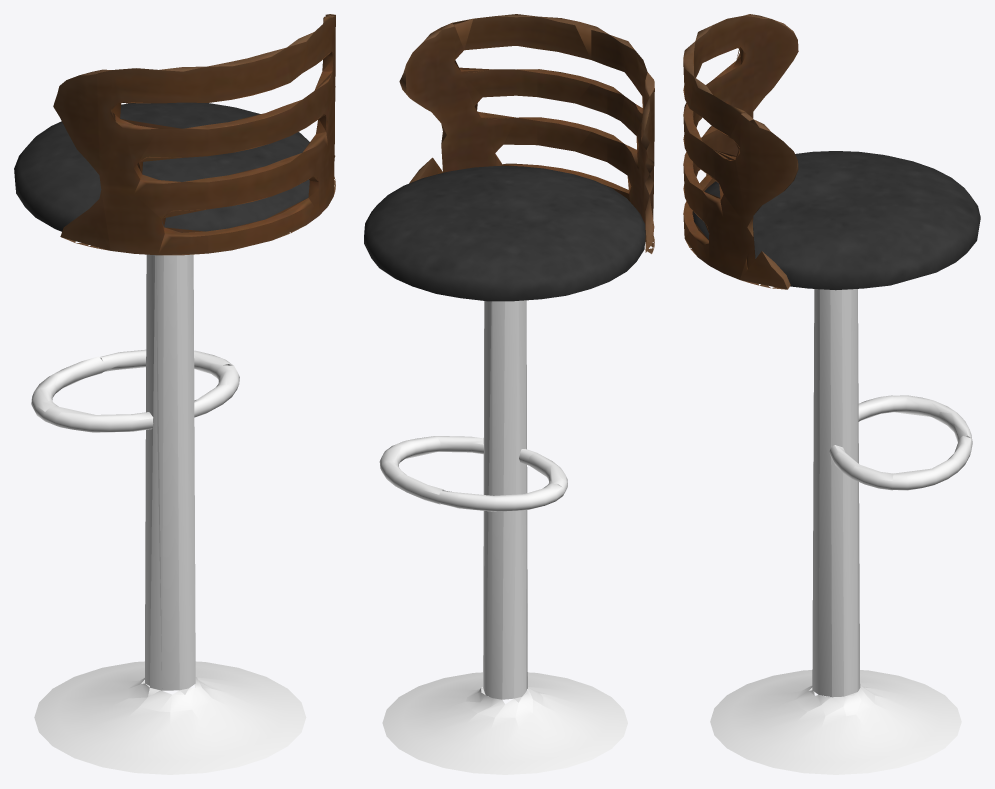
Rendered from ARC0810051.fbx.
3 views of the same model, side by side, from view 1: azimuth 30°, elevation 25°; view 2: azimuth 150°, elevation 25°; view 3: azimuth 270°, elevation 25° (orthographic). The views are drawn at different scales.
Parts seen in each view (by area): view 1: smARC0810051; view 2: smARC0810051; view 3: smARC0810051.
Part boxes in pixels (x1=…): smARC0810051: x1=14, y1=14, x2=335, y2=774; smARC0810051: x1=364, y1=14, x2=654, y2=774; smARC0810051: x1=683, y1=14, x2=980, y2=774.
Bounding box in the file's own units: 50.09 × 124 × 50.3.
Materials: 1 (1 with a texture image).
